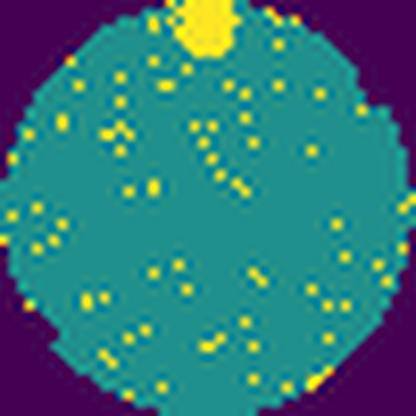Loc: (172, 0, 244, 57)
